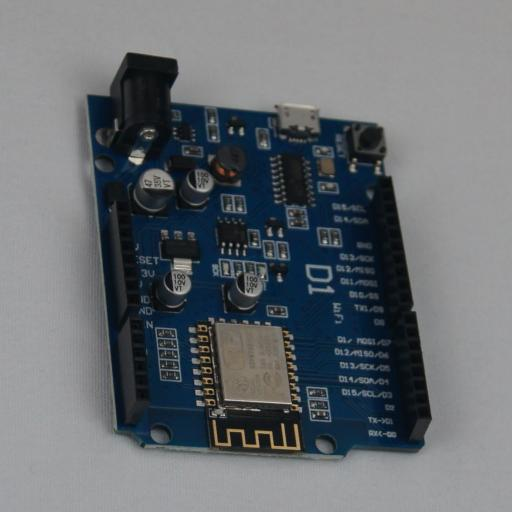Arduino Uno WiFi Shield: (87, 52, 432, 460)
